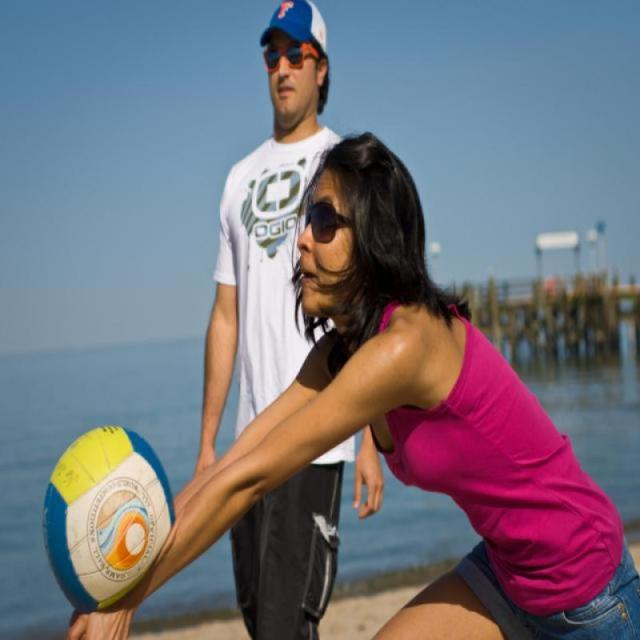volleyball: (42, 423, 176, 611)
